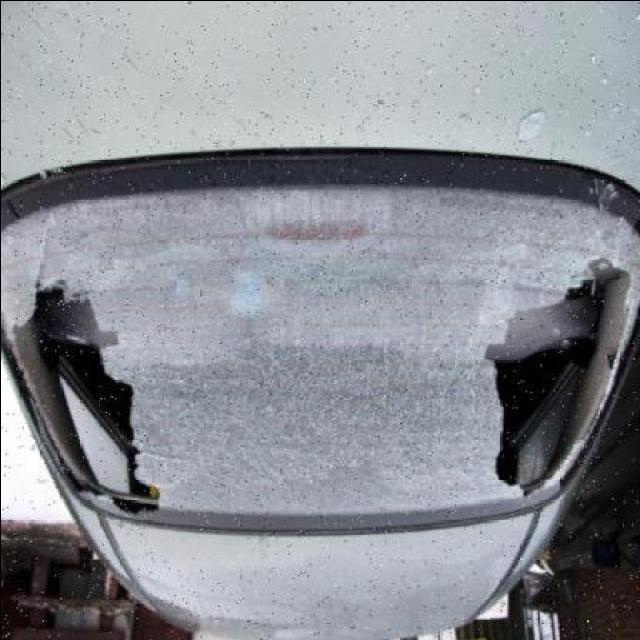Rear-windscreen-Damage: (0, 107, 636, 546)
